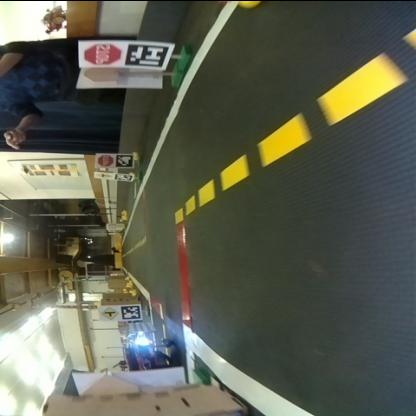Duckiebot: (123, 330, 173, 370)
Intersection sign: (100, 304, 118, 317), (93, 170, 112, 176)
QR code: (124, 39, 167, 65), (119, 302, 140, 318), (116, 152, 132, 166), (114, 172, 132, 180)
Stop sign: (80, 40, 121, 63), (95, 154, 113, 164)
